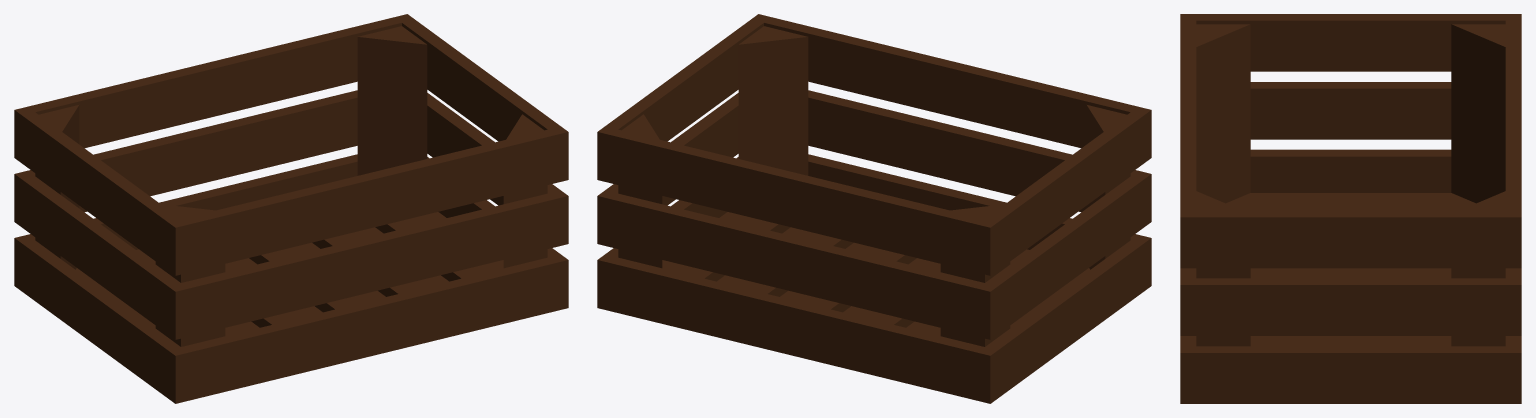
Rendered from HighCrate3Slats.fbx.
3 views of the same model, side by side, from view 1: azimuth 30°, elevation 25°; view 2: azimuth 150°, elevation 25°; view 3: azimuth 270°, elevation 25° (orthographic). The views are drawn at different scales.
Parts seen in each view (by area): view 1: HighCrate3Slats; view 2: HighCrate3Slats; view 3: HighCrate3Slats.
Boxes of the visible parts, x1,y1,x2,y2 form: HighCrate3Slats: (14, 14, 568, 403); HighCrate3Slats: (597, 14, 1151, 403); HighCrate3Slats: (1180, 14, 1521, 403).
Size of the model in its own units: 44.16 by 62.22 by 26.66.
